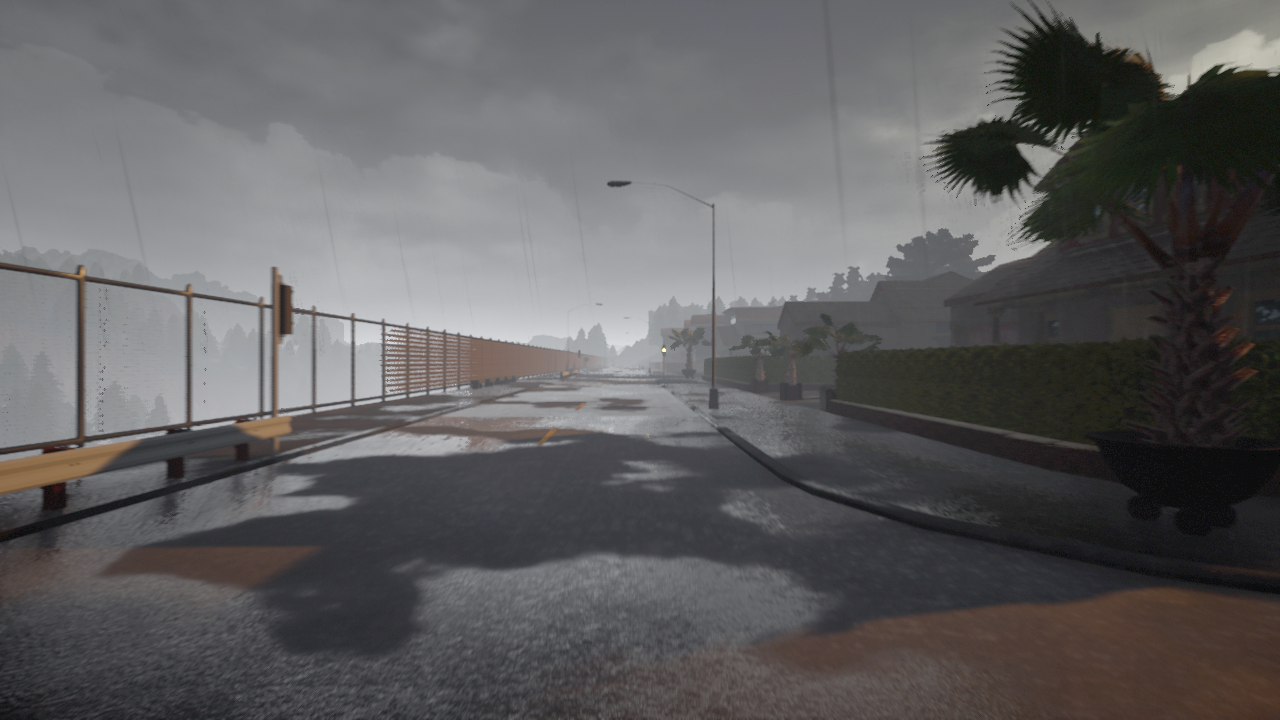yellow: (661, 343, 667, 356)
